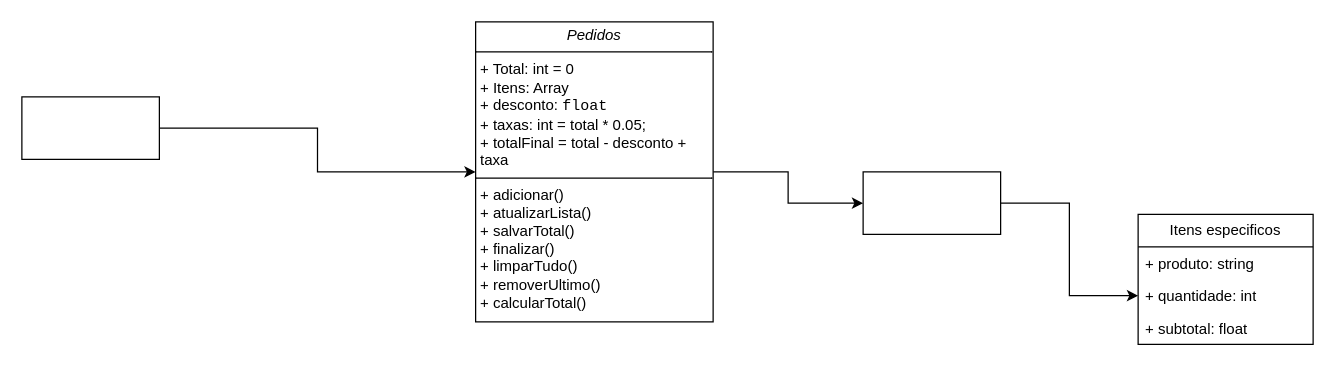
Image size: 1335x370. Some labels were removed from this diagram. The centre of each missing label's shape, as x and y in pixels:
Cliente: (90,127)
Itens: (931,202)
